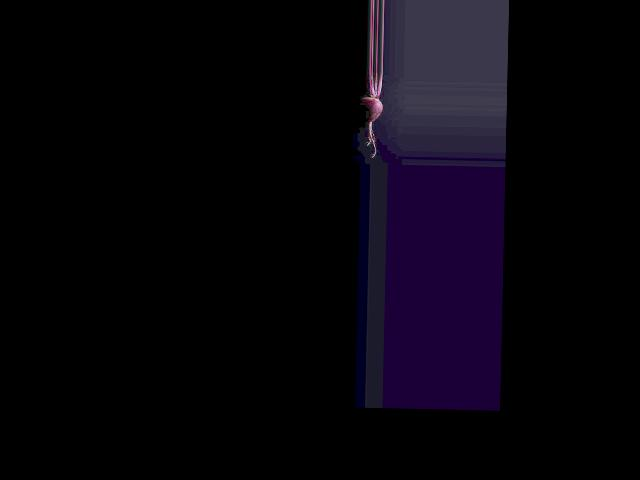beet: (359, 72, 384, 158)
